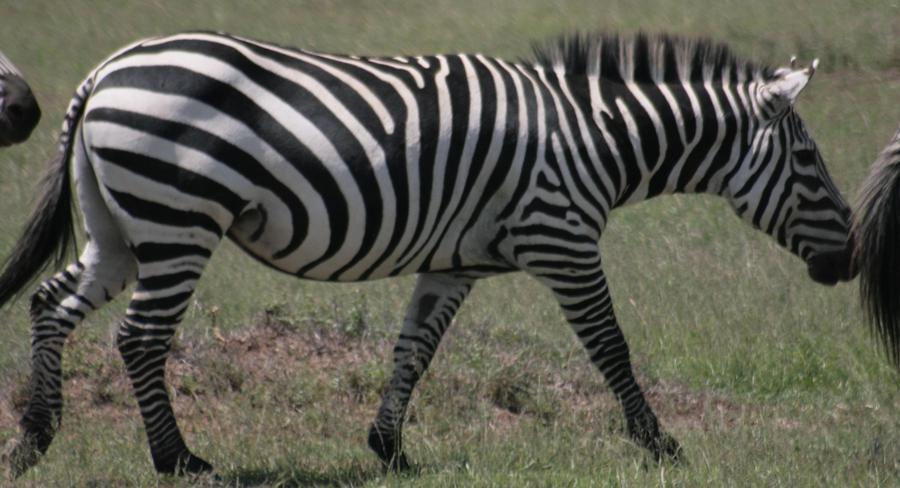zebra_plains: (105, 30, 593, 284)
